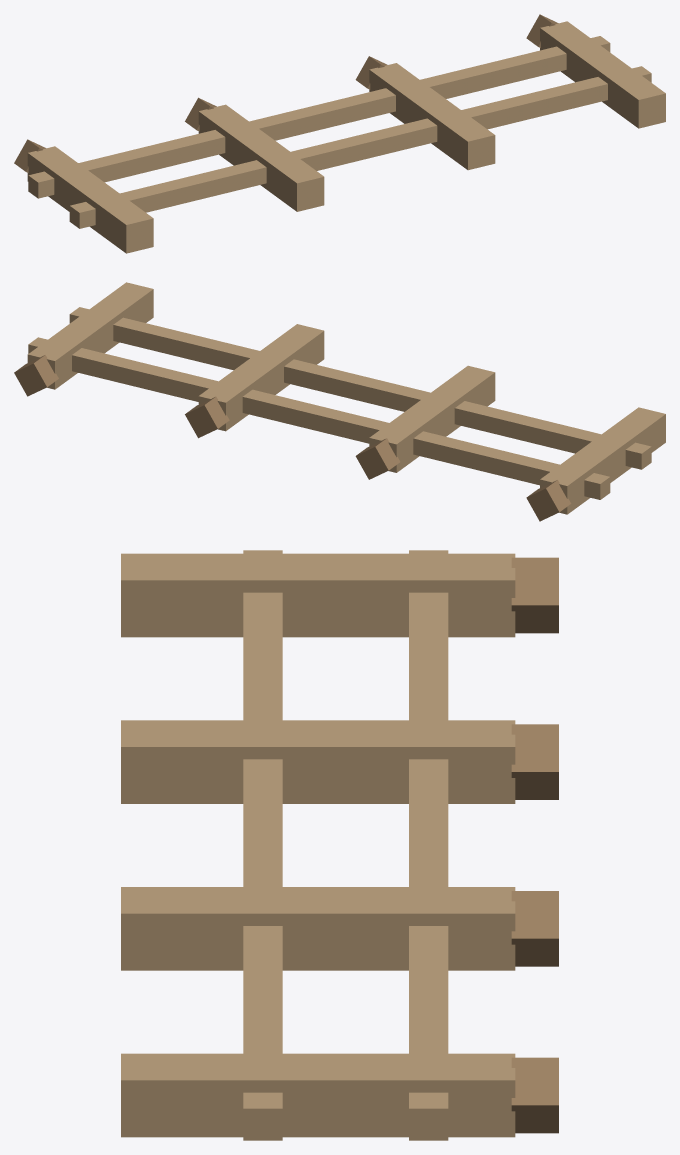
File: fence.glb
The picture shows the model from 3 angles, top to bottom: view 1: azimuth 30°, elevation 25°; view 2: azimuth 150°, elevation 25°; view 3: azimuth 270°, elevation 25°; orthographic projection. The views are drawn at different scales.
Parts seen in each view (by area): view 1: RailT, RailB, Post0, Post1, Post2, Post3, Tip2, Tip1, Tip0, Tip3; view 2: RailT, RailB, Post0, Post1, Post3, Post2, Tip3, Tip2, Tip0, Tip1; view 3: Post0, Post3, Post1, Post2, RailB, RailT, Tip0, Tip3, Tip1, Tip2.
Part boxes in pixels (x1=…): RailT: x1=28, y1=36, x2=610, y2=198; RailB: x1=69, y1=66, x2=651, y2=228; Post0: x1=27, y1=146, x2=153, y2=253; Post1: x1=198, y1=104, x2=324, y2=211; Post2: x1=369, y1=63, x2=495, y2=170; Post3: x1=540, y1=21, x2=665, y2=128; Tip2: x1=355, y1=56, x2=387, y2=89; Tip1: x1=185, y1=97, x2=216, y2=131; Tip0: x1=14, y1=139, x2=45, y2=172; Tip3: x1=526, y1=14, x2=558, y2=47; RailT: x1=28, y1=337, x2=610, y2=499; RailB: x1=69, y1=307, x2=651, y2=469; Post0: x1=540, y1=407, x2=665, y2=514; Post1: x1=369, y1=365, x2=495, y2=472; Post3: x1=27, y1=282, x2=153, y2=389; Post2: x1=198, y1=324, x2=324, y2=431; Tip3: x1=14, y1=355, x2=58, y2=396; Tip2: x1=185, y1=396, x2=229, y2=438; Tip0: x1=526, y1=480, x2=571, y2=521; Tip1: x1=355, y1=438, x2=400, y2=479; Post0: x1=121, y1=553, x2=515, y2=637; Post3: x1=121, y1=1053, x2=515, y2=1137; Post1: x1=121, y1=720, x2=515, y2=803; Post2: x1=121, y1=887, x2=515, y2=970; RailB: x1=243, y1=550, x2=282, y2=1140; RailT: x1=409, y1=550, x2=448, y2=1140; Tip0: x1=511, y1=557, x2=558, y2=633; Tip3: x1=511, y1=1057, x2=558, y2=1133; Tip1: x1=511, y1=724, x2=558, y2=799; Tip2: x1=511, y1=891, x2=558, y2=966.
Size of the model in its own units: 3.35 by 0.1946 by 1.11.
